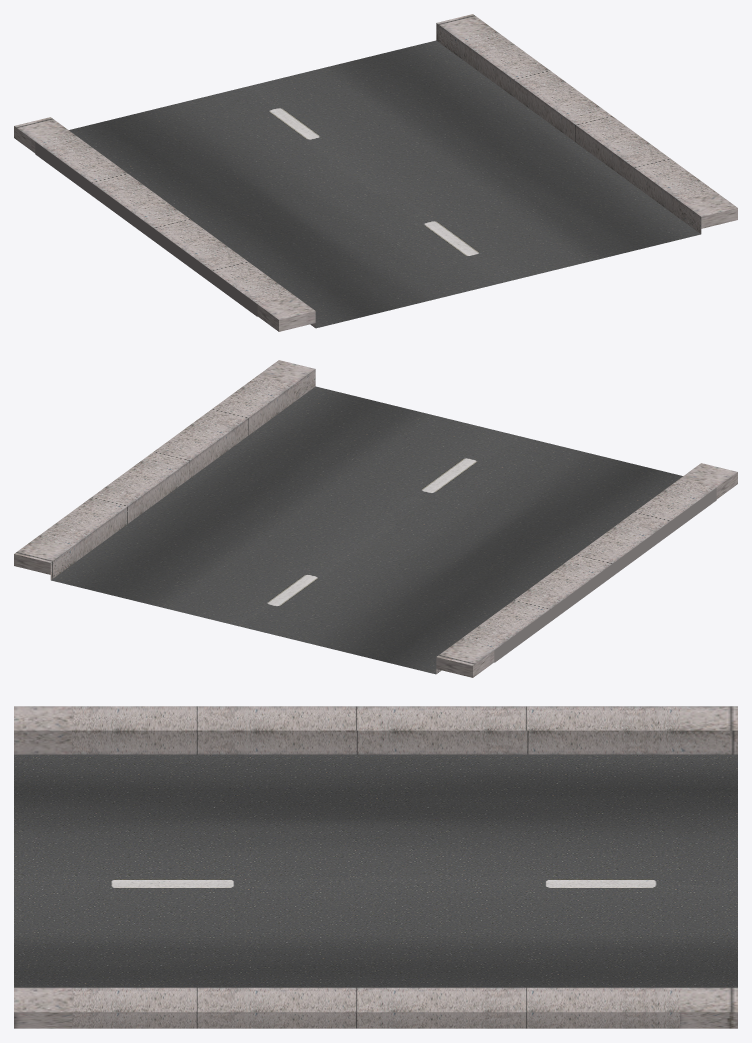
Rendered from road segment B.FBX.
3 views of the same model, one above another, from view 1: azimuth 30°, elevation 25°; view 2: azimuth 150°, elevation 25°; view 3: azimuth 270°, elevation 25° (orthographic). The views are drawn at different scales.
Parts seen in each view (by area): view 1: Box001; view 2: Box001; view 3: Box001.
Boxes of the visible parts, <box> form: Box001: <box>14,14,737,331</box>; Box001: <box>14,360,737,677</box>; Box001: <box>14,706,737,1028</box>.
Bounding box in the file's own units: 24 × 0.8736 × 24.
